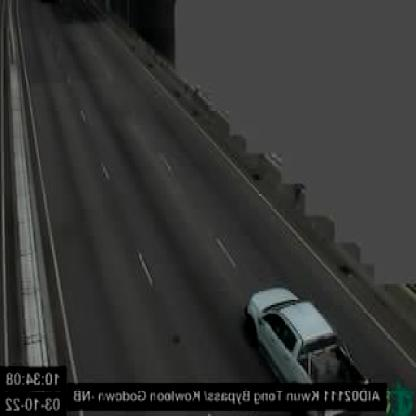Car: (244, 284, 372, 414)
